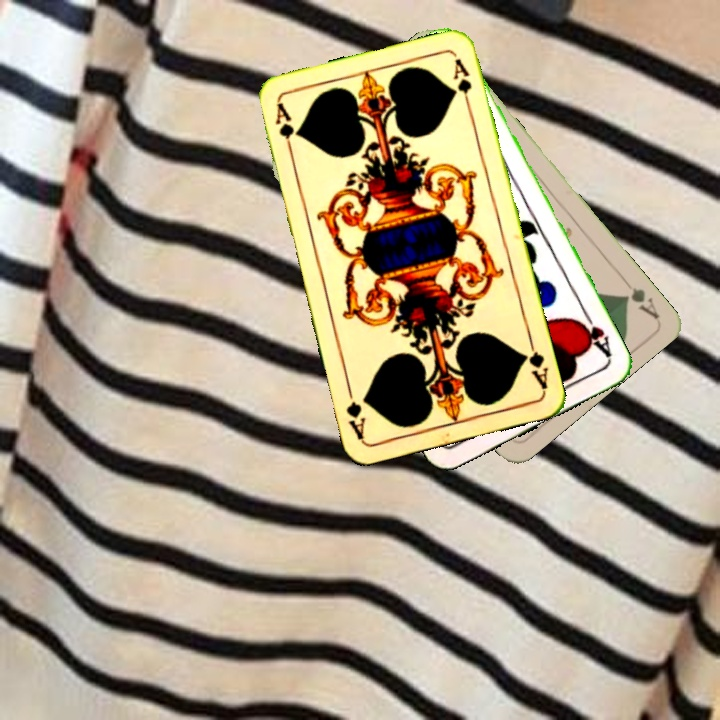GA: (518, 334, 551, 392), (619, 283, 661, 321), (271, 99, 297, 158)
HA: (573, 306, 615, 362)
